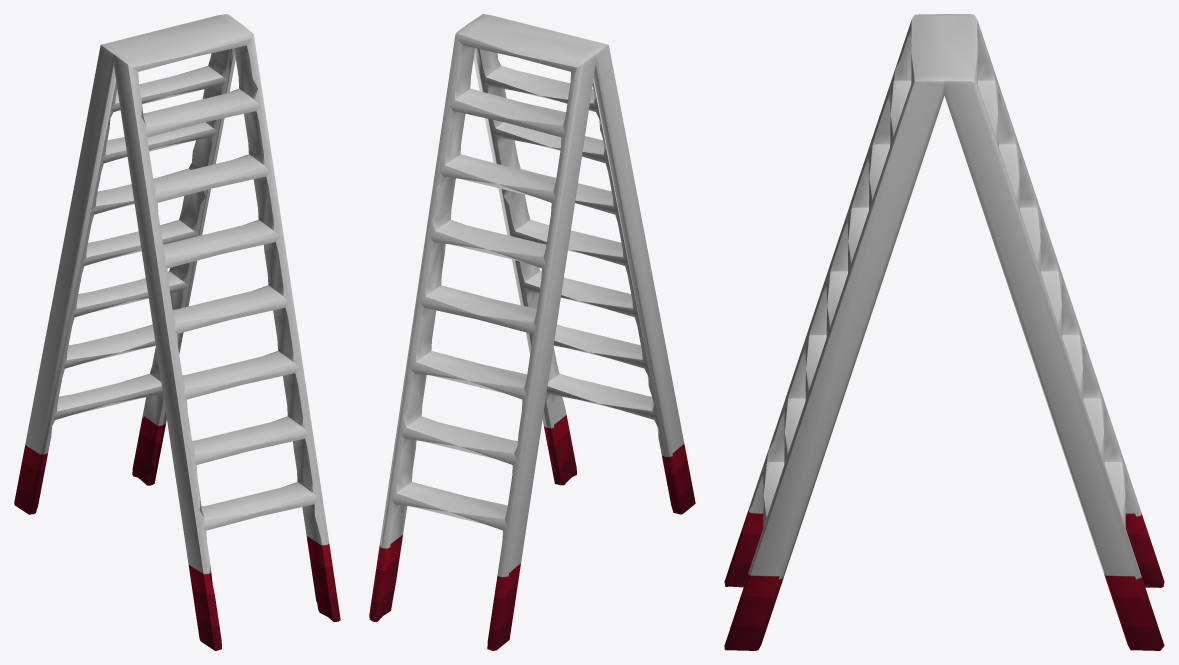
File: 사다리 2.fbx
3 views of the same model, side by side, from view 1: azimuth 30°, elevation 25°; view 2: azimuth 150°, elevation 25°; view 3: azimuth 270°, elevation 25° (orthographic). The views are drawn at different scales.
Parts seen in each view (by area): view 1: Box001; view 2: Box001; view 3: Box001.
Part boxes in pixels (x1,y1,x2,y2): Box001: [14, 14, 340, 650]; Box001: [369, 14, 695, 650]; Box001: [724, 14, 1164, 650].
Bounding box in the file's own units: 30.41 × 119 × 82.62.
1 material, 1 textured.
